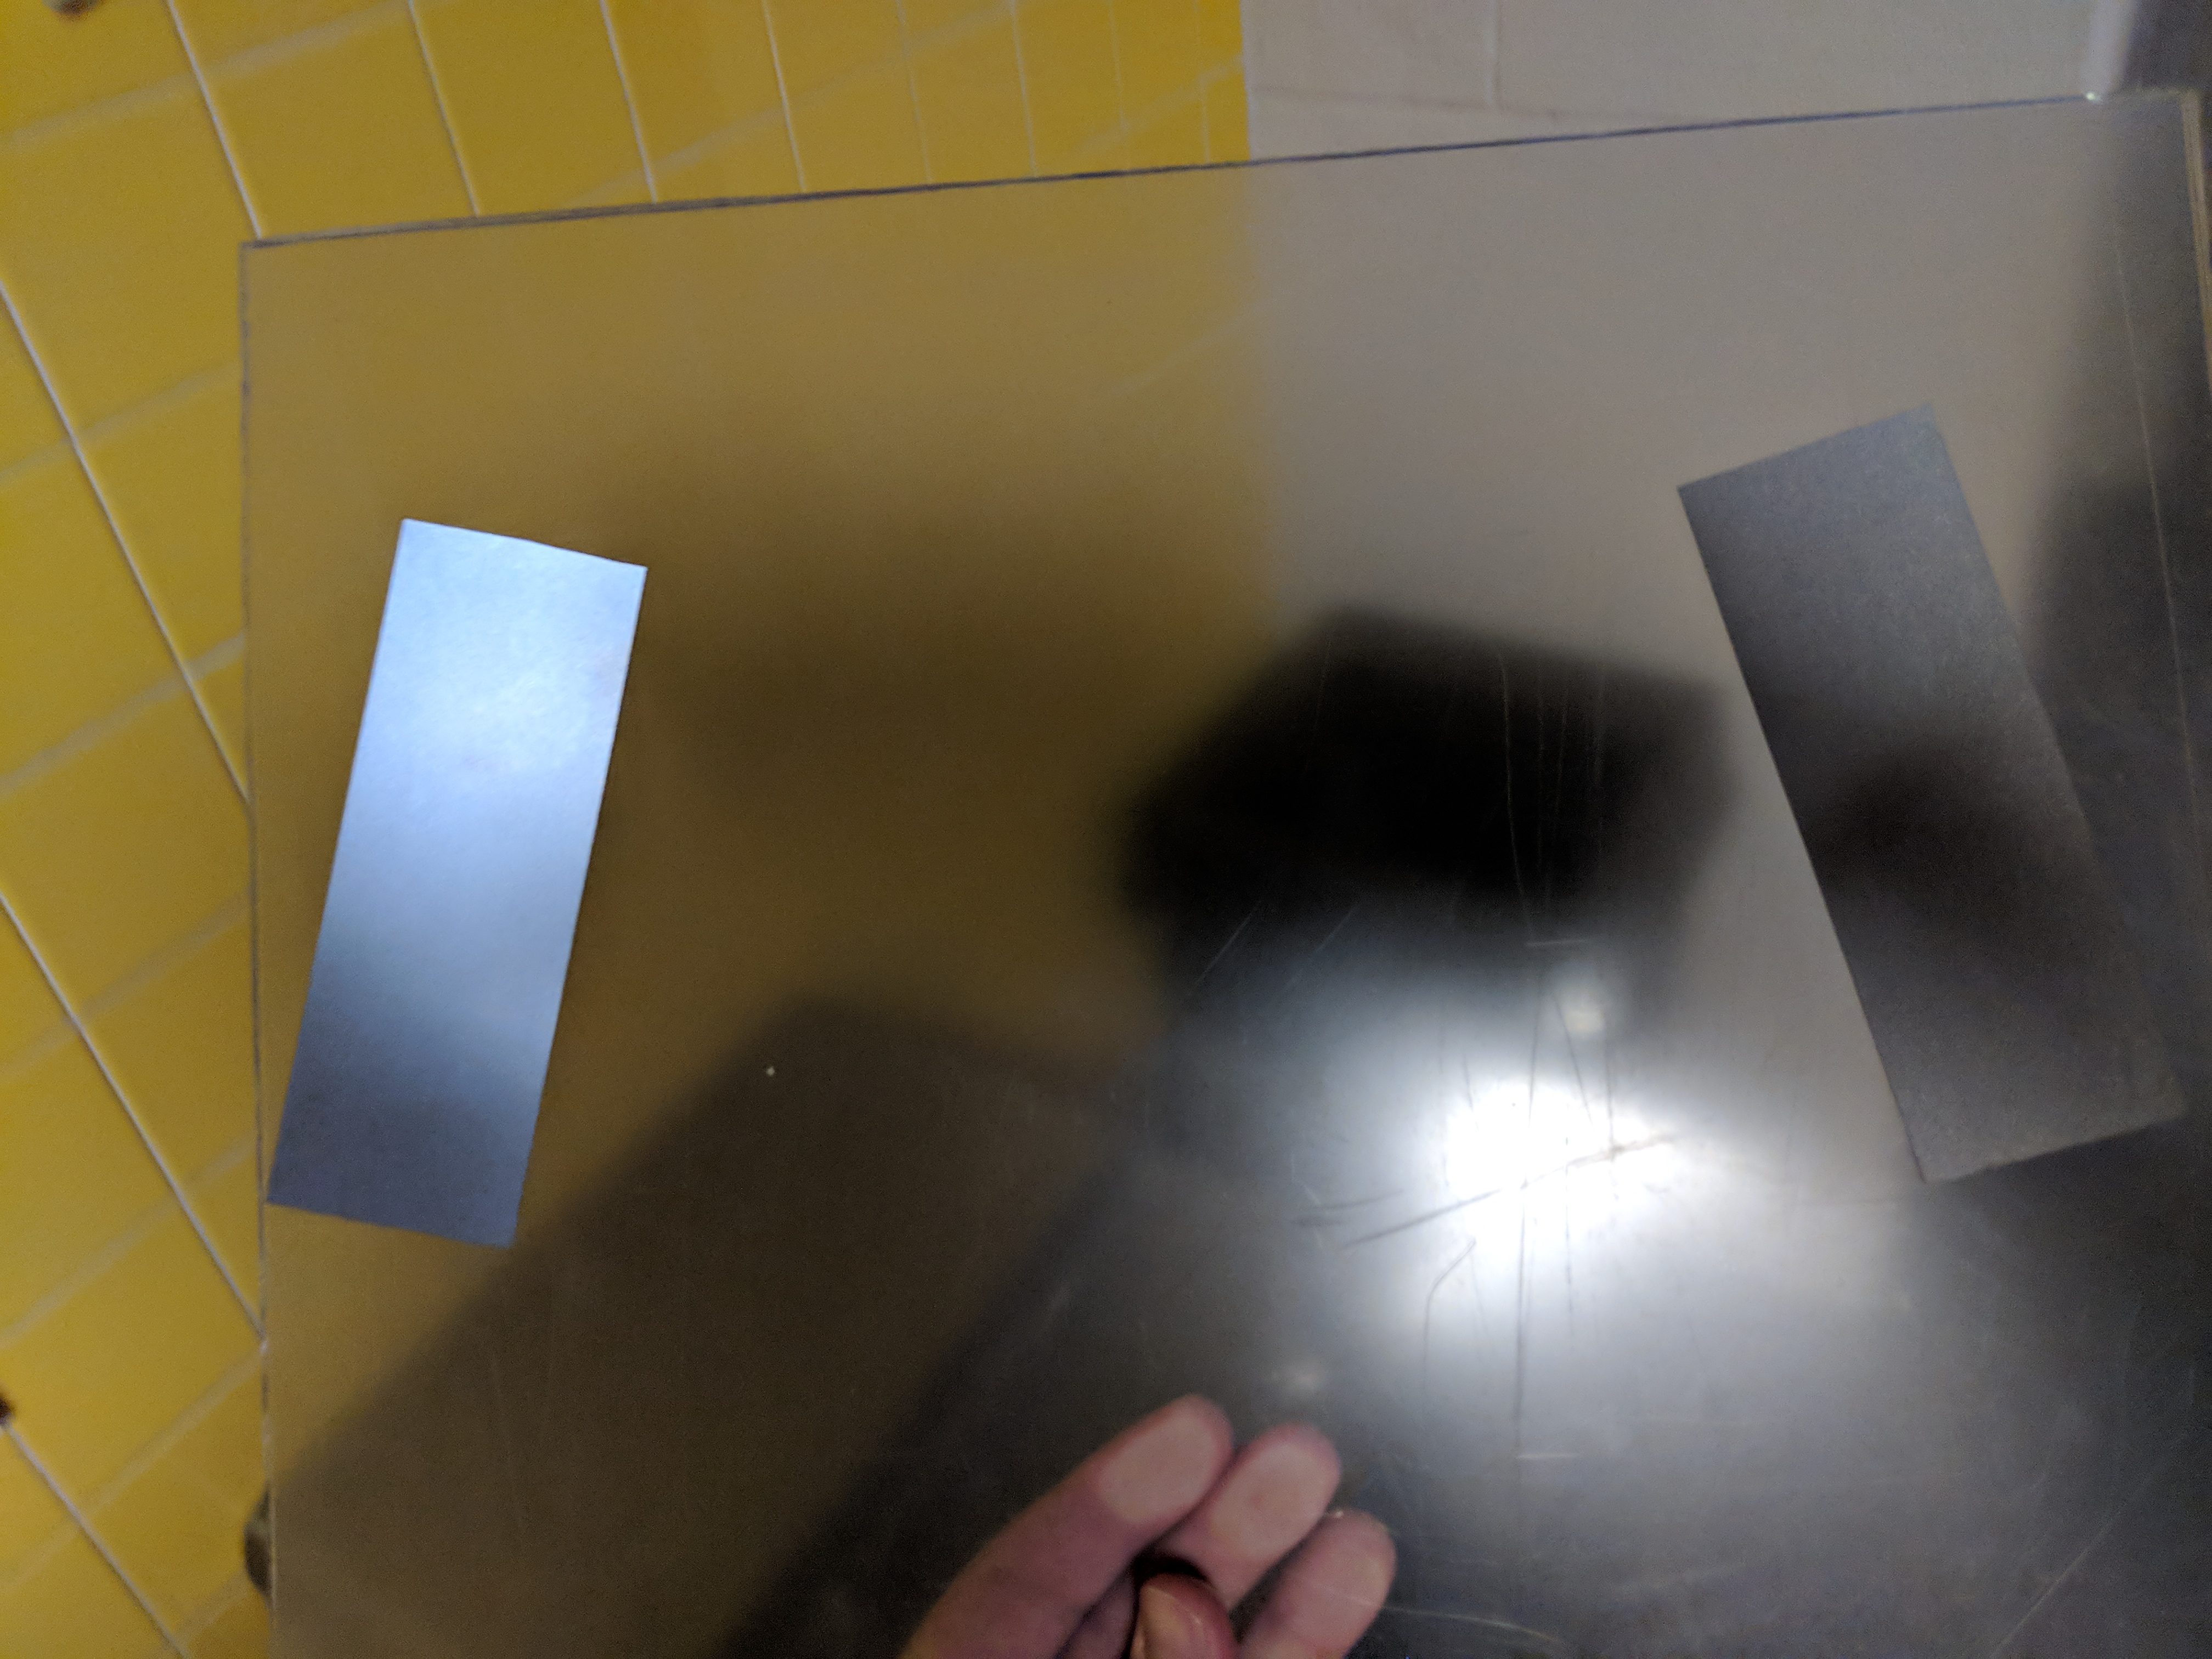vision_target: (254, 404, 2195, 1263)
